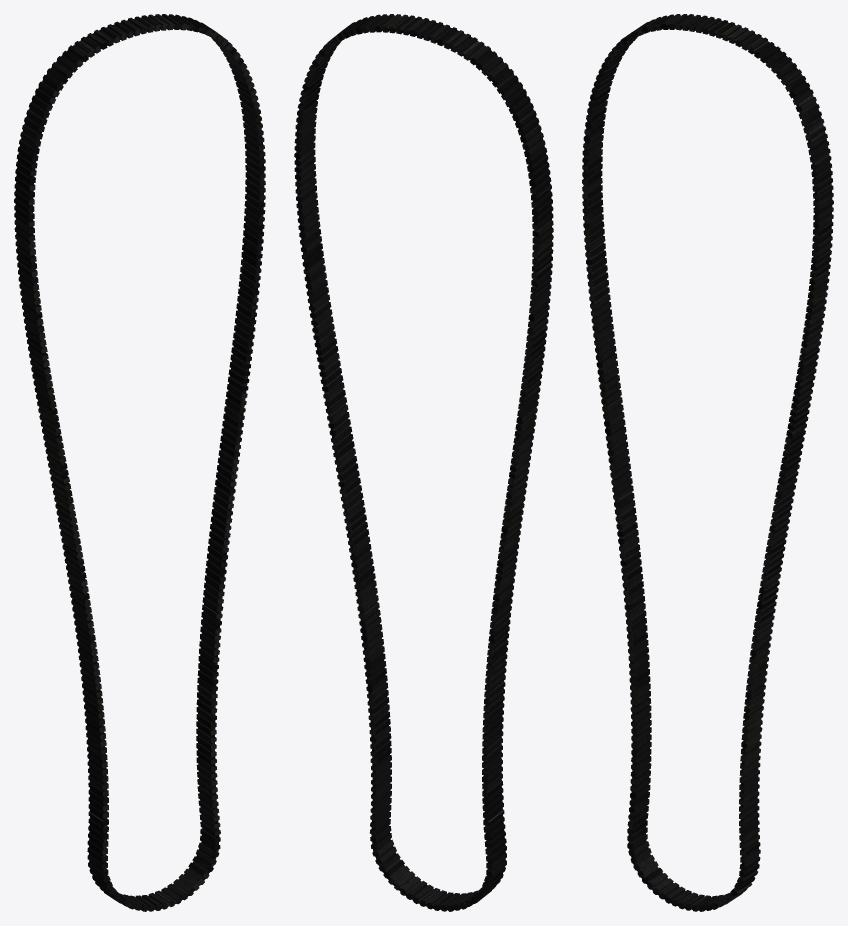
The model's file is belt2.obj.
3 renders of one model, left to right at view 1: azimuth 30°, elevation 25°; view 2: azimuth 150°, elevation 25°; view 3: azimuth 330°, elevation 25°, orthographic. The views are drawn at different scales.
Visible parts, largest first — view 1: Timing_Belt_Gear.018; view 2: Timing_Belt_Gear.018; view 3: Timing_Belt_Gear.018.
Boxes of the visible parts, x1,y1,x2,y2 form: Timing_Belt_Gear.018: (14, 14, 265, 911); Timing_Belt_Gear.018: (294, 14, 553, 911); Timing_Belt_Gear.018: (582, 14, 833, 911).
Size of the model in its own units: 4.23 by 14.83 by 1.04.
Materials: 1 (1 with a texture image).
